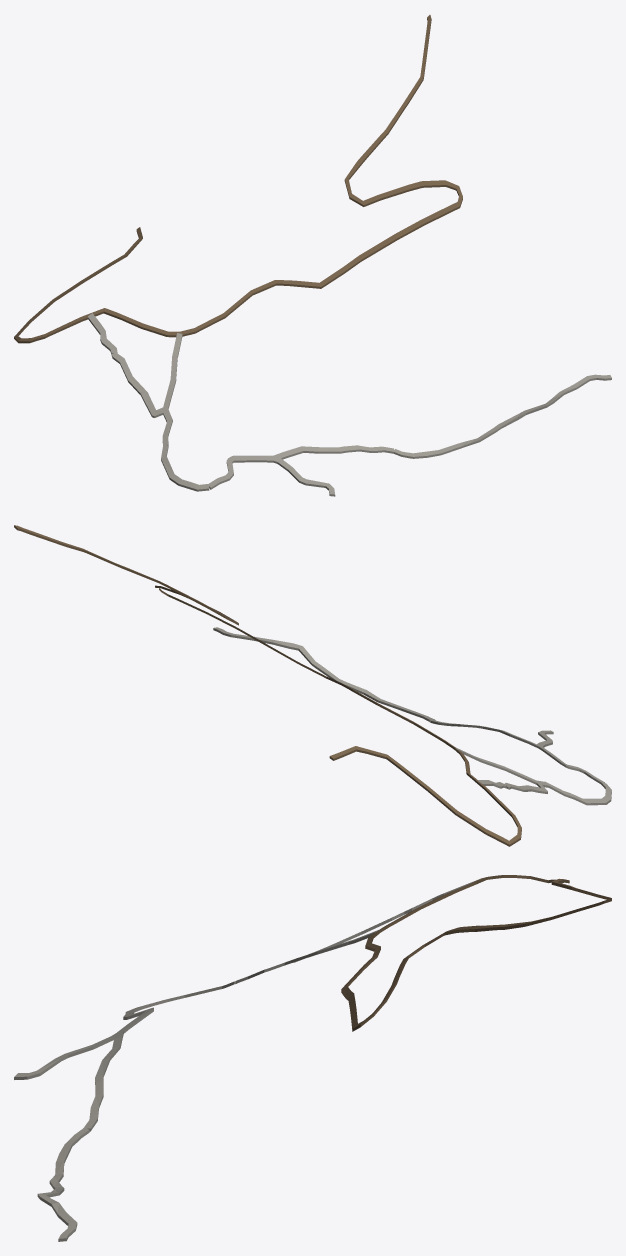
Rendered from 15-27350-14868.2acc12b6.glb.
3 renders of one model, top to bottom at view 1: azimuth 30°, elevation 25°; view 2: azimuth 150°, elevation 25°; view 3: azimuth 270°, elevation 25°, orthographic. The views are drawn at different scales.
Size of the model in its own units: 162 by 93.74 by 127.
